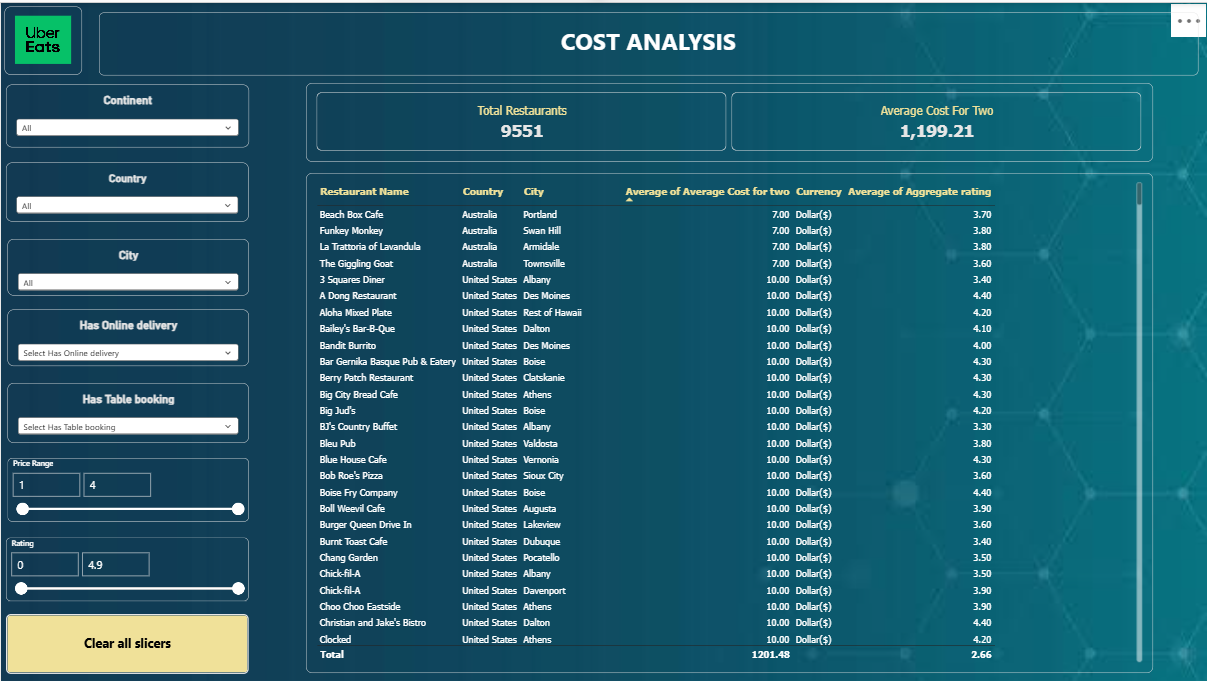

The page's visual inventory and layout, read from the dashboard file:
{"tool":"powerbi","page":{"name":"Cost Analysis","canvas":[1920,1080],"ordinal":2},"visuals":[{"type":"image","box":[0,0,1920,1080],"z":0},{"type":"image","box":[8.3,8.3,123.3,108.3],"z":1000},{"type":"listSlicer","fields":{"Values":["Append1.Continent Hierarchy.Continent"]},"box":[9.5,131.2,386.5,100.2],"z":2000},{"type":"listSlicer","fields":{"Values":["Append1.Continent Hierarchy.Country"]},"box":[10,256,386,94],"z":3000},{"type":"listSlicer","fields":{"Values":["Append1.Continent Hierarchy.City"]},"box":[12,376,384,90],"z":4000},{"type":"listSlicer","fields":{"Values":["KPIs.Has Online delivery"]},"box":[12,490,384,90],"z":5000},{"type":"listSlicer","fields":{"Values":["KPIs.Has Table booking"]},"box":[12.5,605,383.8,95],"z":6000},{"type":"slicer","title":"Rating","fields":{"Values":["KPIs.Price range"]},"box":[12.5,726.2,383.8,101.2],"z":7000},{"type":"slicer","title":"Rating","fields":{"Values":["KPIs.Aggregate rating"]},"box":[10,852.5,386.2,101.2],"z":8000},{"type":"actionButton","box":[10,972.5,386.2,95],"z":9000},{"type":"textbox","box":[157.5,16.7,1748.9,100.2],"z":10000},{"type":"cardVisual","fields":{"Data":["Rest Measures.Total Restaurants","Rest Measures.Average Cost For Two"]},"box":[487.5,130,1347.5,125],"z":12000},{"type":"tableEx","fields":{"Values":["Append1.Restaurant Name","Append1.Country","Append1.City","Avg(KPIs.Average Cost for two)","KPIs.Currency","Avg(KPIs.Aggregate rating)"]},"box":[487.5,272.5,1347.5,795],"z":13000}]}

Visuals, with their boxes in screenshot pixels (x1, y1, x2, y2), scaled from the page's 1920x1080 canvas onto the 1207x681 screenshot:
image: (0, 0, 1206, 680)
image: (5, 5, 83, 74)
listSlicer - Append1.Continent Hierarchy.Continent: (6, 83, 249, 146)
listSlicer - Append1.Continent Hierarchy.Country: (6, 161, 249, 221)
listSlicer - Append1.Continent Hierarchy.City: (8, 237, 249, 294)
listSlicer - KPIs.Has Online delivery: (8, 309, 249, 366)
listSlicer - KPIs.Has Table booking: (8, 381, 249, 441)
"Rating" slicer: (8, 458, 249, 522)
"Rating" slicer: (6, 538, 249, 601)
actionButton: (6, 613, 249, 673)
textbox: (99, 11, 1198, 74)
cardVisual - Rest Measures.Total Restaurants x Rest Measures.Average Cost For Two: (306, 82, 1154, 161)
tableEx - Append1.Restaurant Name x Append1.Country: (306, 172, 1154, 673)
